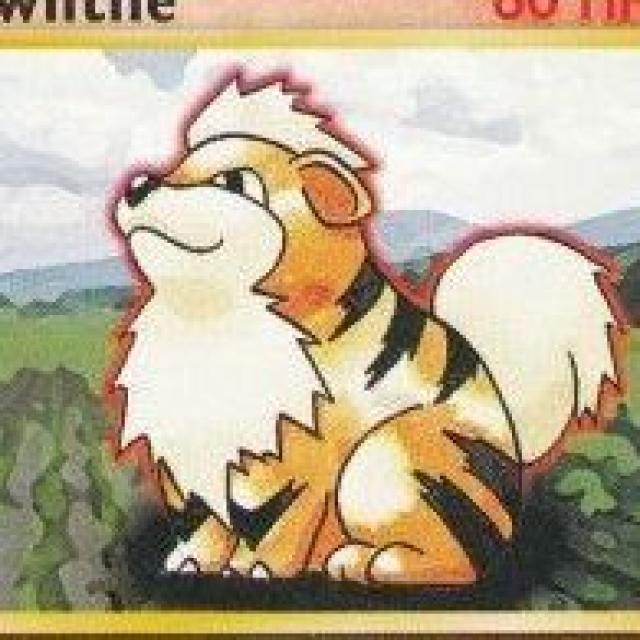Growlithe: (107, 69, 532, 586)
